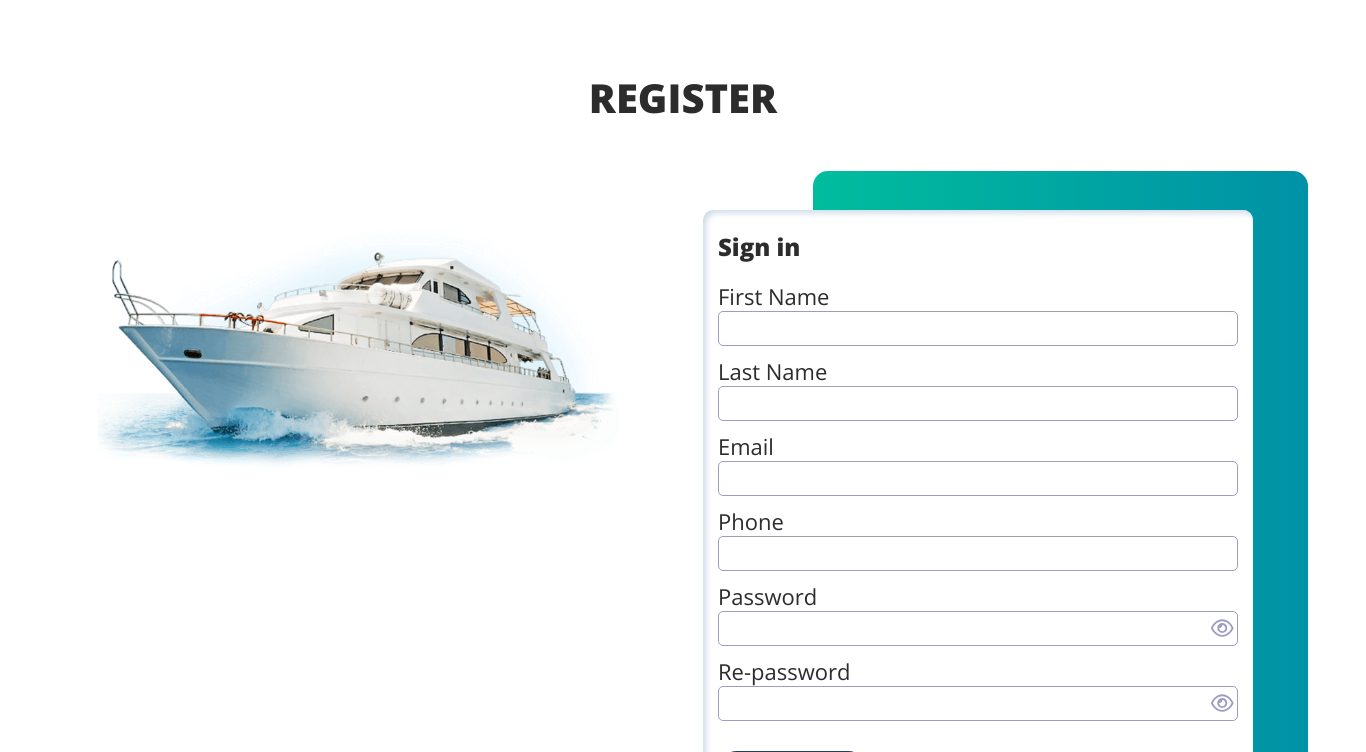
Test: Register › Should show phone error
This screenshot has width=1366, height=752.
Type "+1231" into the field with test id "phone". click: (978, 554)
box: [718,536,1238,571]
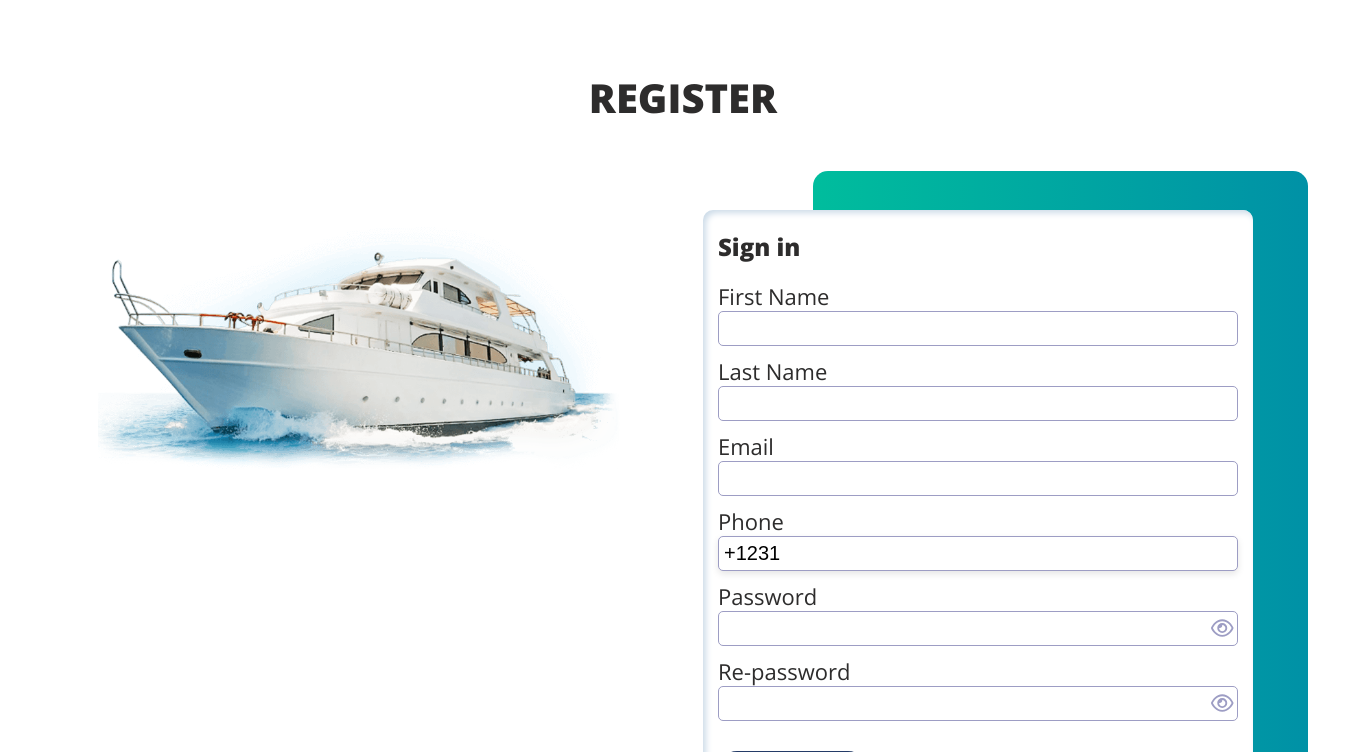
Click the password field with test id "password". click: (978, 628)
box: [718,611,1238,646]
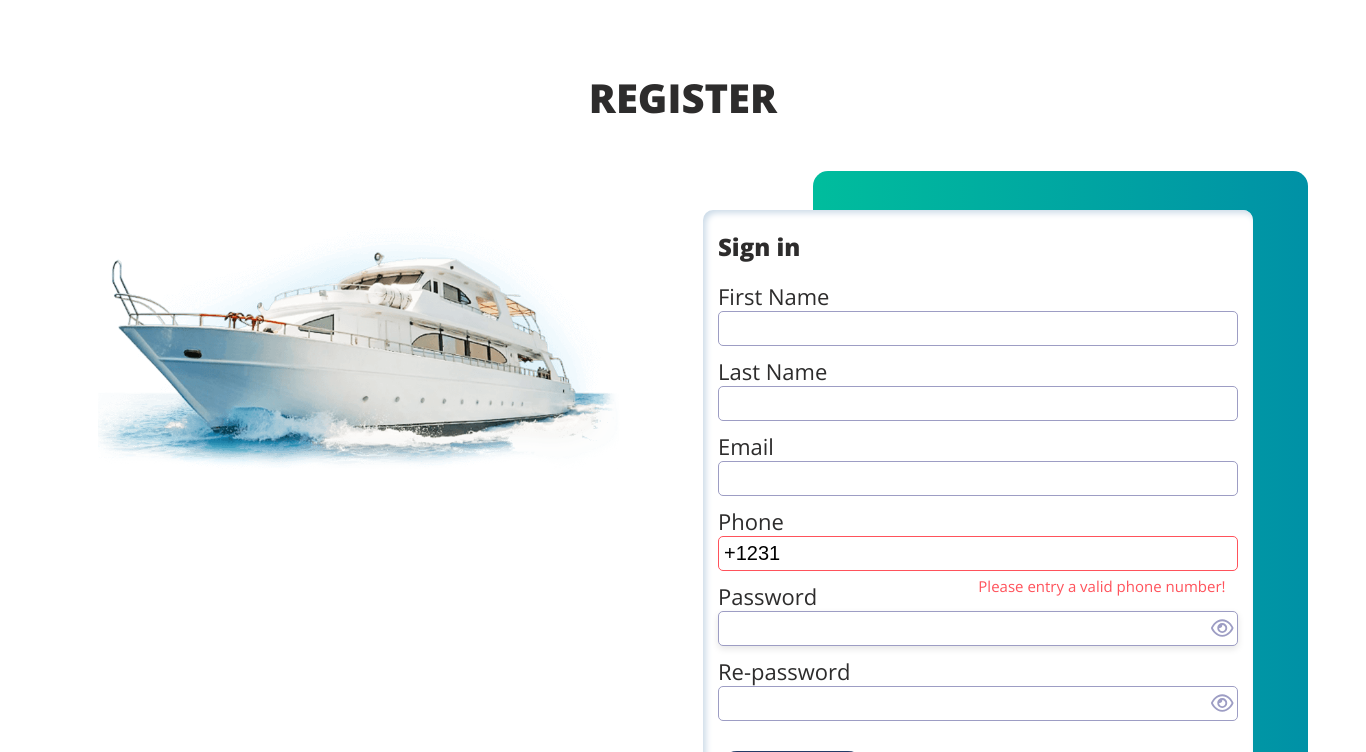
Result: the text "Please entry a valid phone number!" is shown at [978,576,1226,596]
